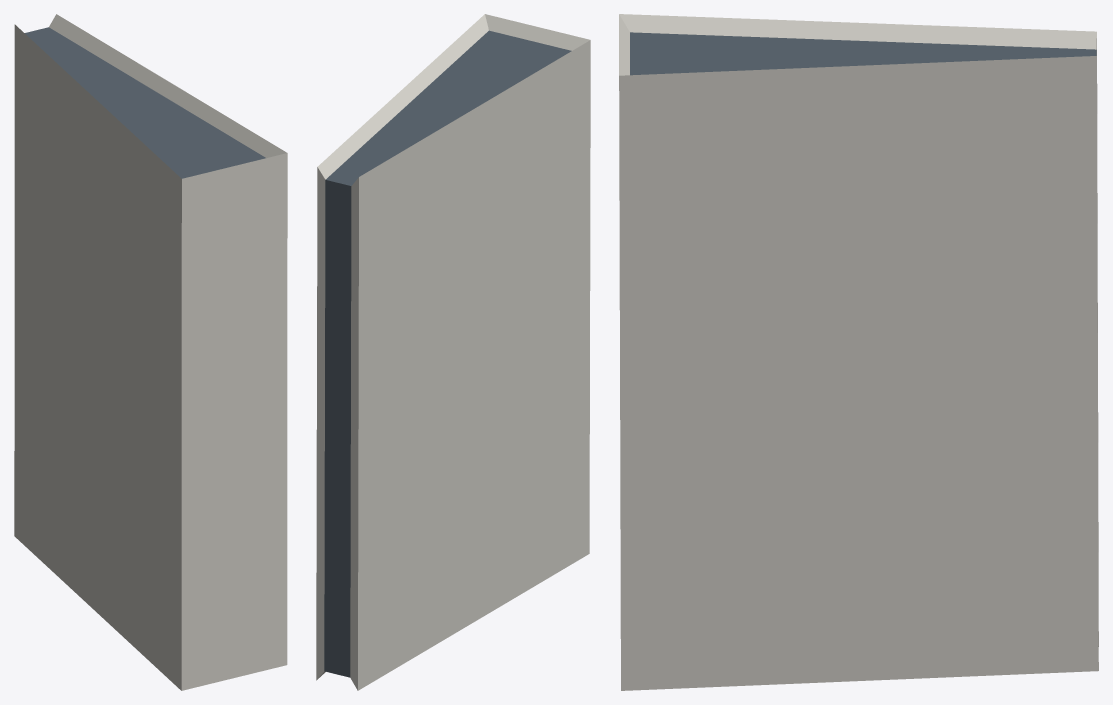
File: 09_file_binder_alt_2.glb
3 views of the same model, side by side, from view 1: azimuth 30°, elevation 25°; view 2: azimuth 150°, elevation 25°; view 3: azimuth 270°, elevation 25° (orthographic). The views are drawn at different scales.
Visible parts, largest first — view 1: file_binder_alt2; view 2: file_binder_alt2; view 3: file_binder_alt2.
Part boxes in pixels (bbox=[...]): file_binder_alt2: bbox=[14, 14, 287, 690]; file_binder_alt2: bbox=[316, 14, 590, 690]; file_binder_alt2: bbox=[619, 14, 1098, 690].
Size of the model in its own units: 0.0915 by 0.4233 by 0.2987.
